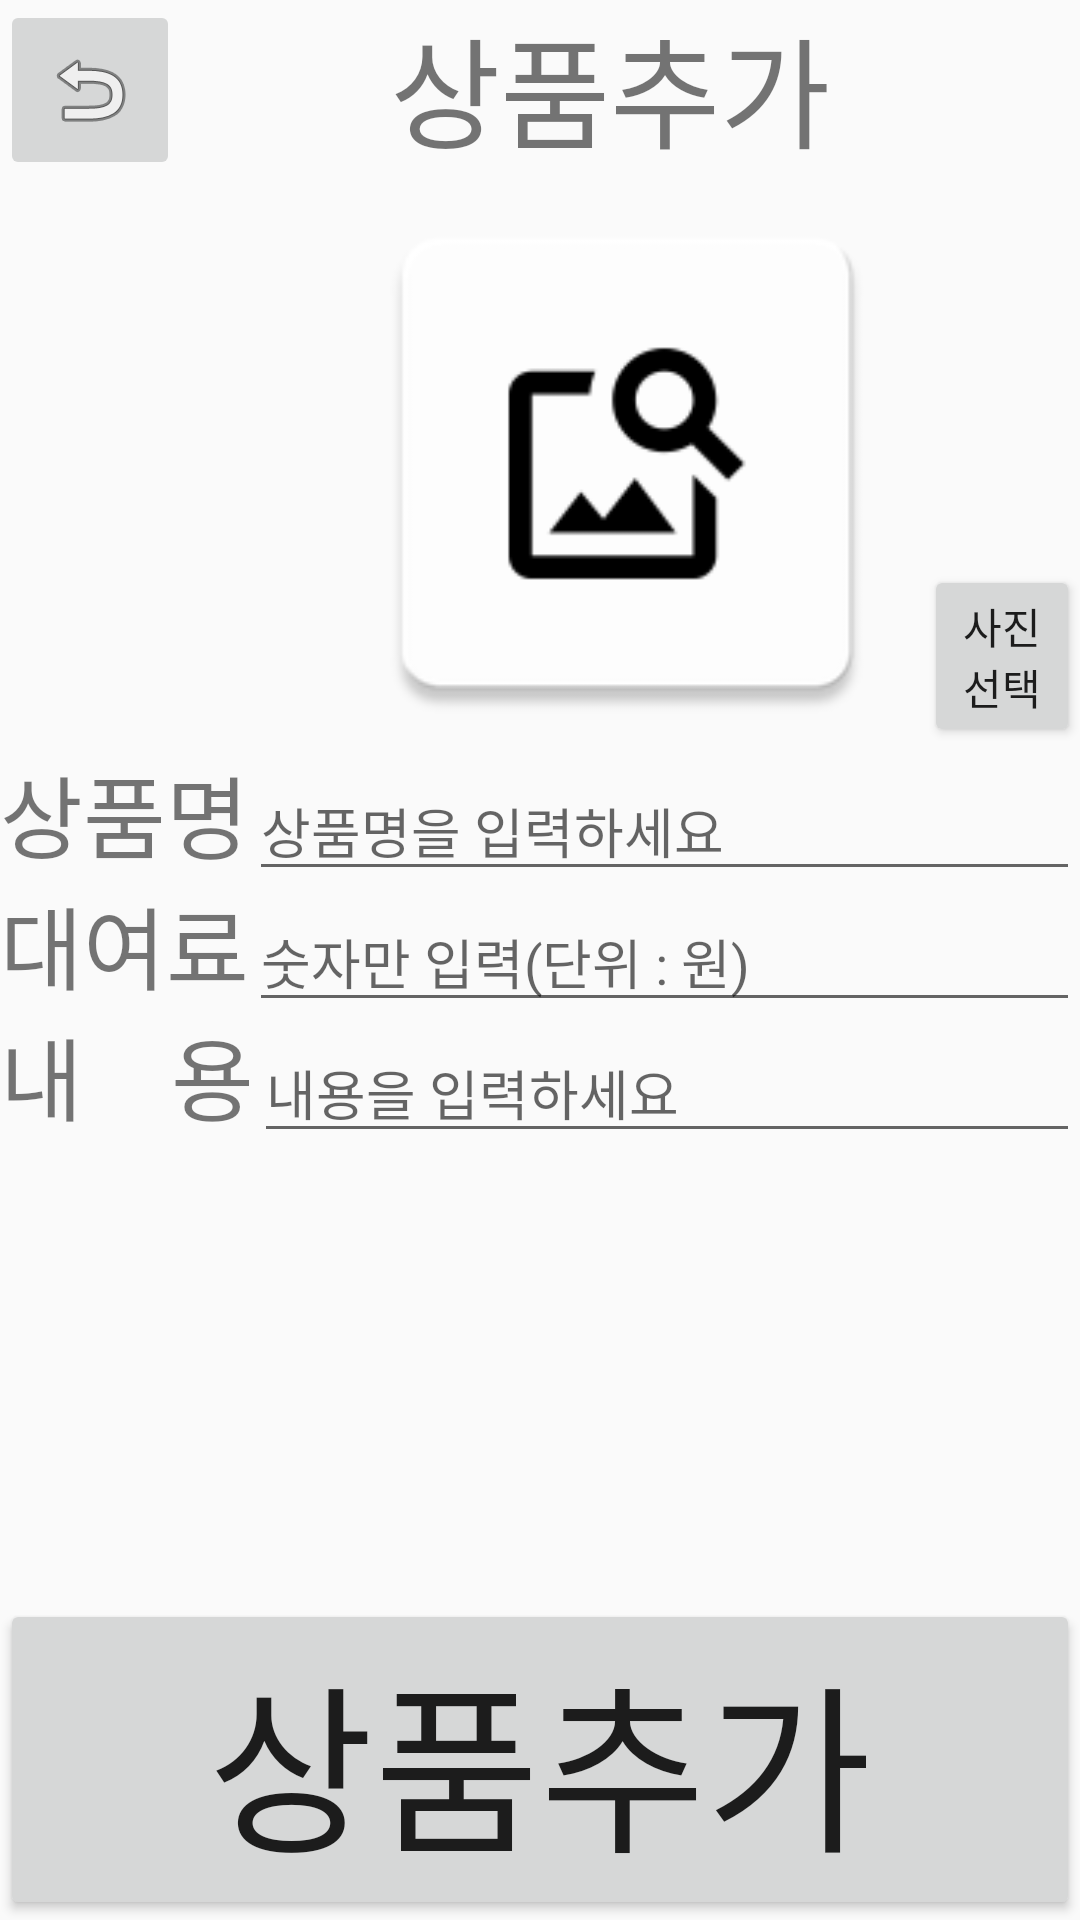

Point at icon controls on the screen. Image size 1080 × 1920, points as point (x, y).
revert: point (90, 90)
